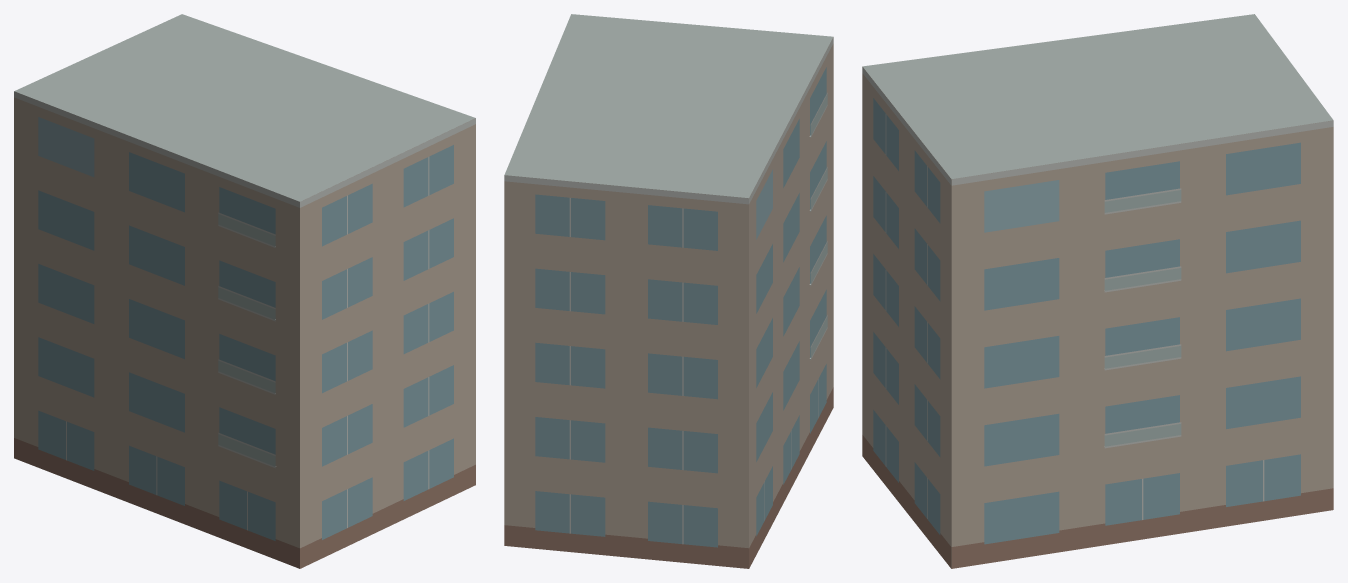
The model's file is survey-upis-32678333.glb.
The picture shows the model from 3 angles, left to right: view 1: azimuth 30°, elevation 25°; view 2: azimuth 150°, elevation 25°; view 3: azimuth 270°, elevation 25°; orthographic projection. The views are drawn at different scales.
Parts seen in each view (by area): view 1: survey-upis-32678333.tmp; view 2: survey-upis-32678333.tmp; view 3: survey-upis-32678333.tmp.
Part boxes in pixels (x1,y1,x2,y2): survey-upis-32678333.tmp: [14, 14, 475, 568]; survey-upis-32678333.tmp: [504, 14, 833, 568]; survey-upis-32678333.tmp: [862, 14, 1333, 568].
Bounding box in the file's own units: 13.28 × 14.6 × 16.01.
